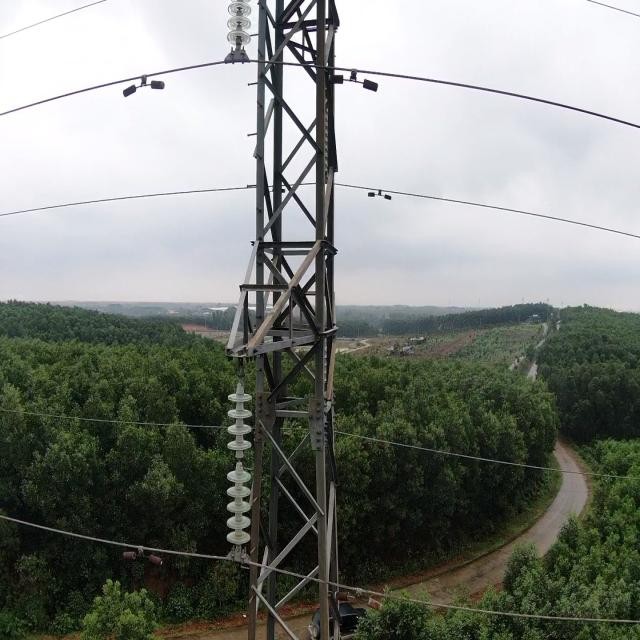杆塔: (222, 0, 353, 640)
正常电缆: (336, 64, 640, 131), (334, 426, 640, 490), (337, 181, 640, 240), (0, 52, 232, 120), (0, 179, 249, 220), (0, 403, 229, 434)
正常绝缘子: (223, 376, 257, 581), (224, 5, 254, 69)
绝缘子破损: (235, 452, 244, 468)
